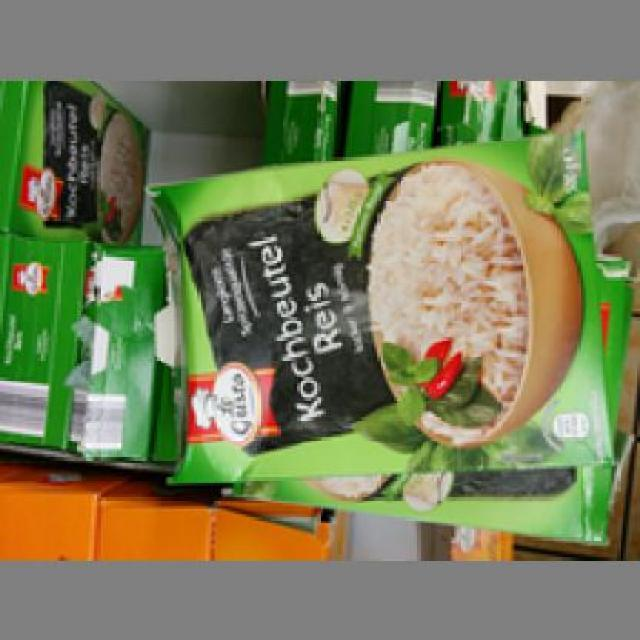Rice: (137, 126, 614, 486), (0, 77, 149, 246)
